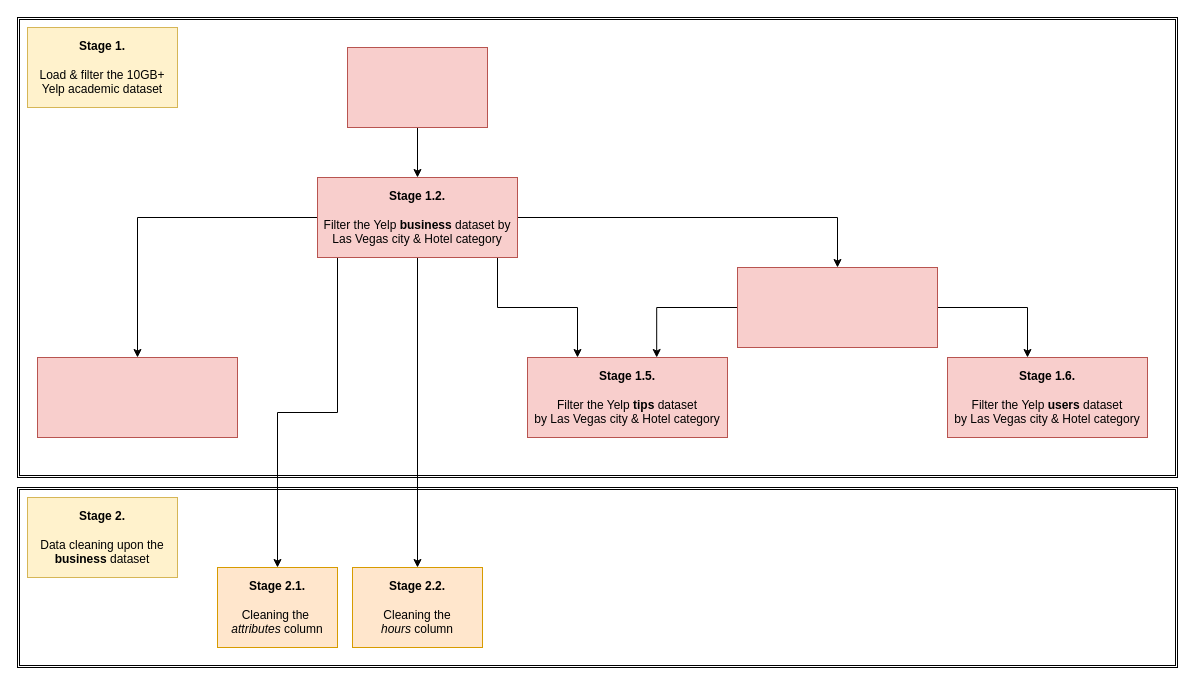
This 1195x685 diagram has some shape labels left out. Each missing label, with the box of its shape:
Stage 1.1. Load the full Yelp academic dataset: (346, 46, 488, 128)
Stage 1.3. Filter the Yelp reviews dataset by Las Vegas city & Hotel category: (736, 266, 938, 348)
Stage 1.4. Filter the Yelp check-ins dataset by Las Vegas city & Hotel category: (36, 356, 238, 438)
